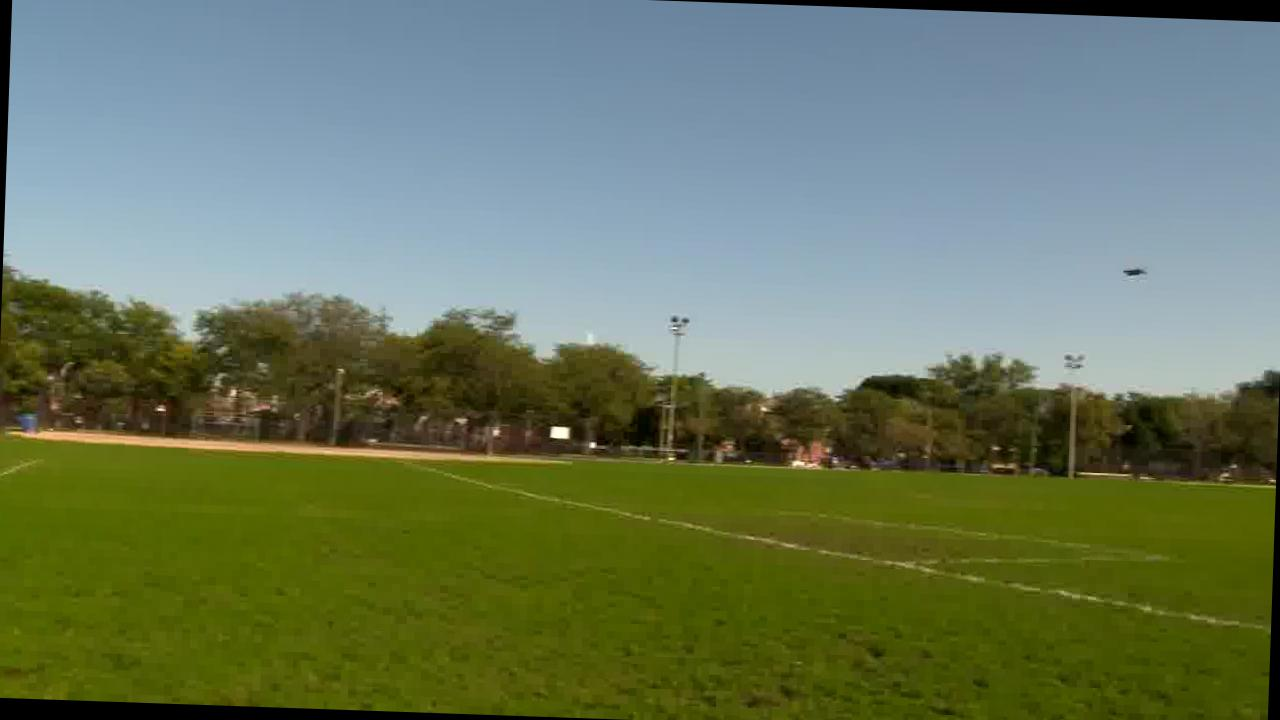drone: (1108, 260, 1153, 286)
